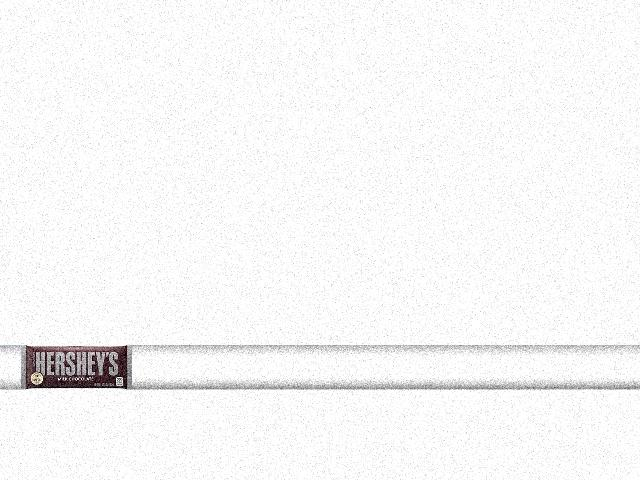chocolate: (23, 346, 131, 394)
